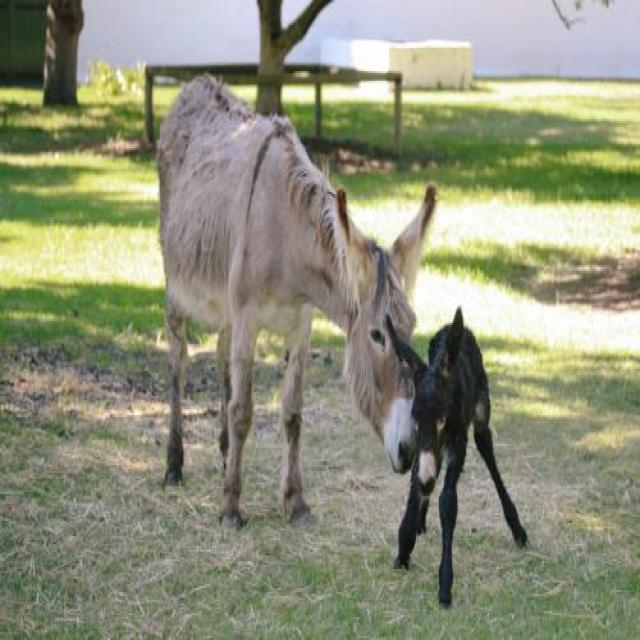Donkey: (158, 72, 436, 529), (382, 309, 530, 610)
